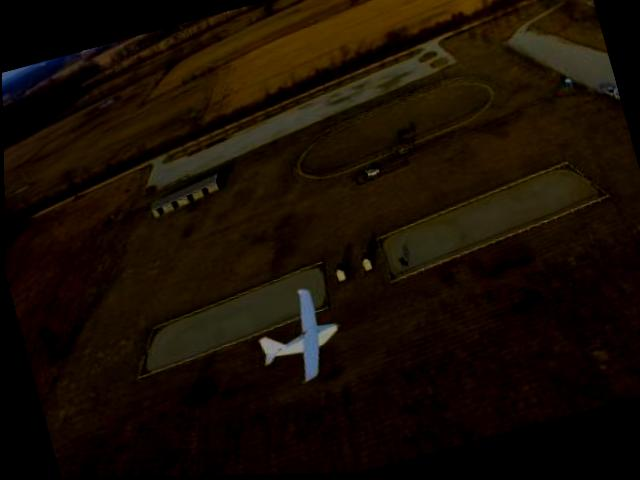uav: (232, 269, 357, 406)
